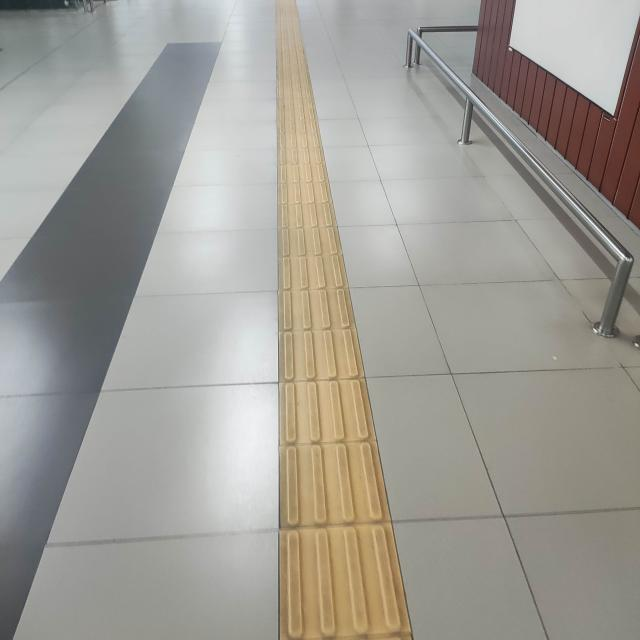lurus: (253, 6, 391, 640)
